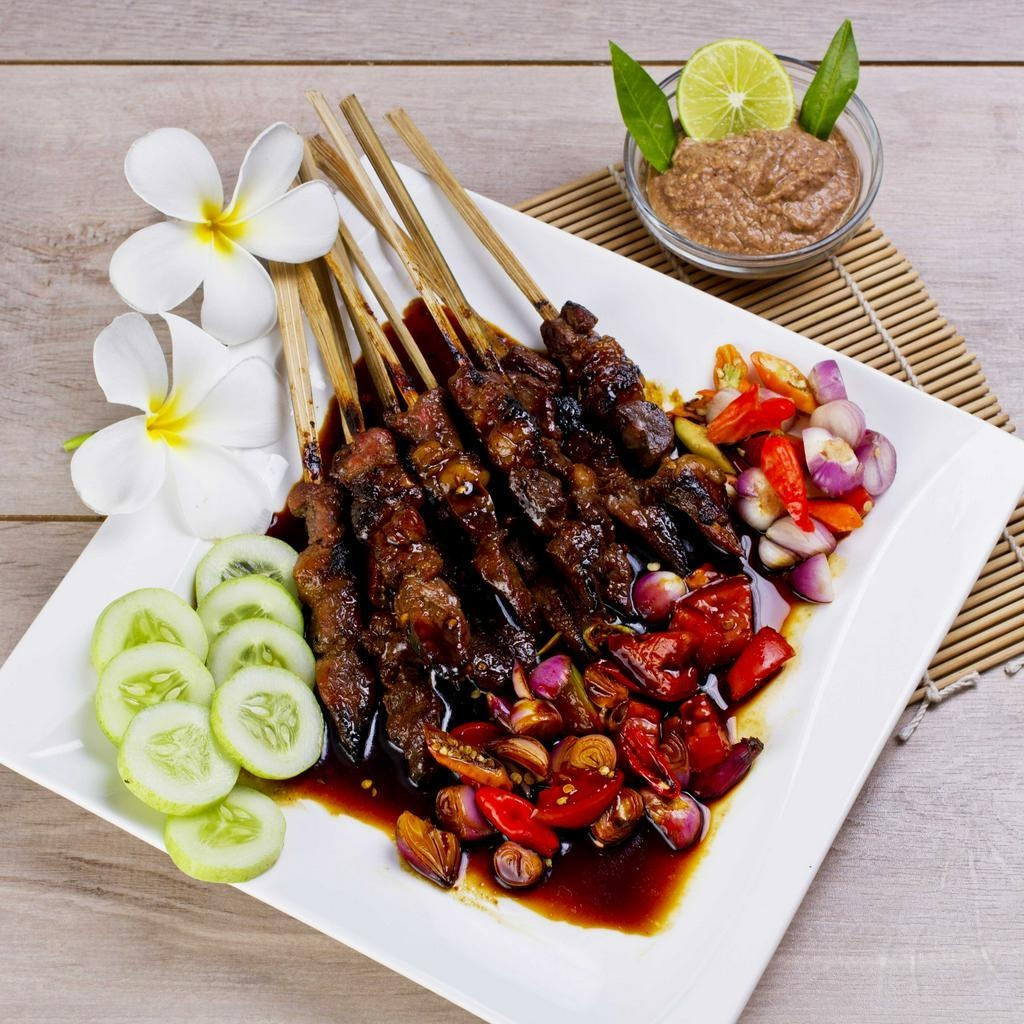sate: (311, 91, 630, 586), (342, 87, 432, 780)
